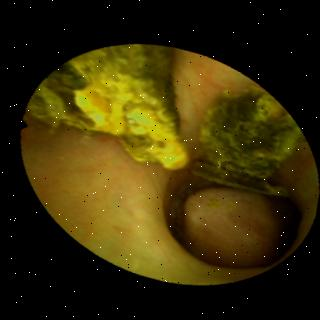stone: (23, 47, 184, 165), (189, 85, 298, 191)
